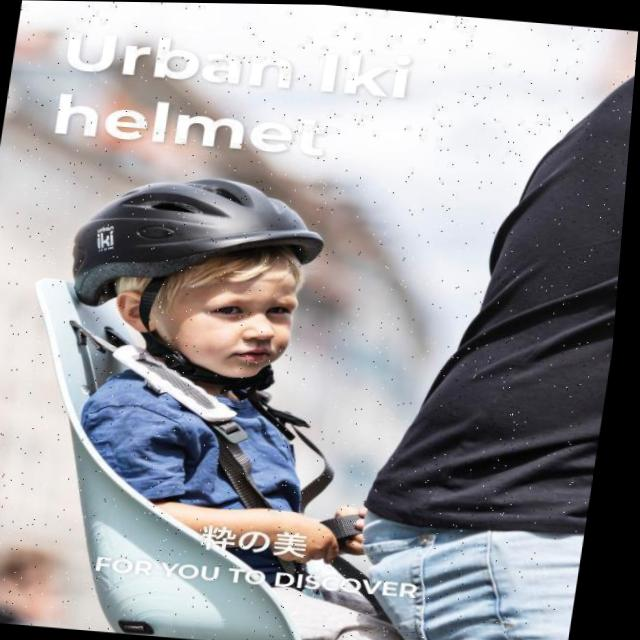helmet: (58, 163, 335, 399)
